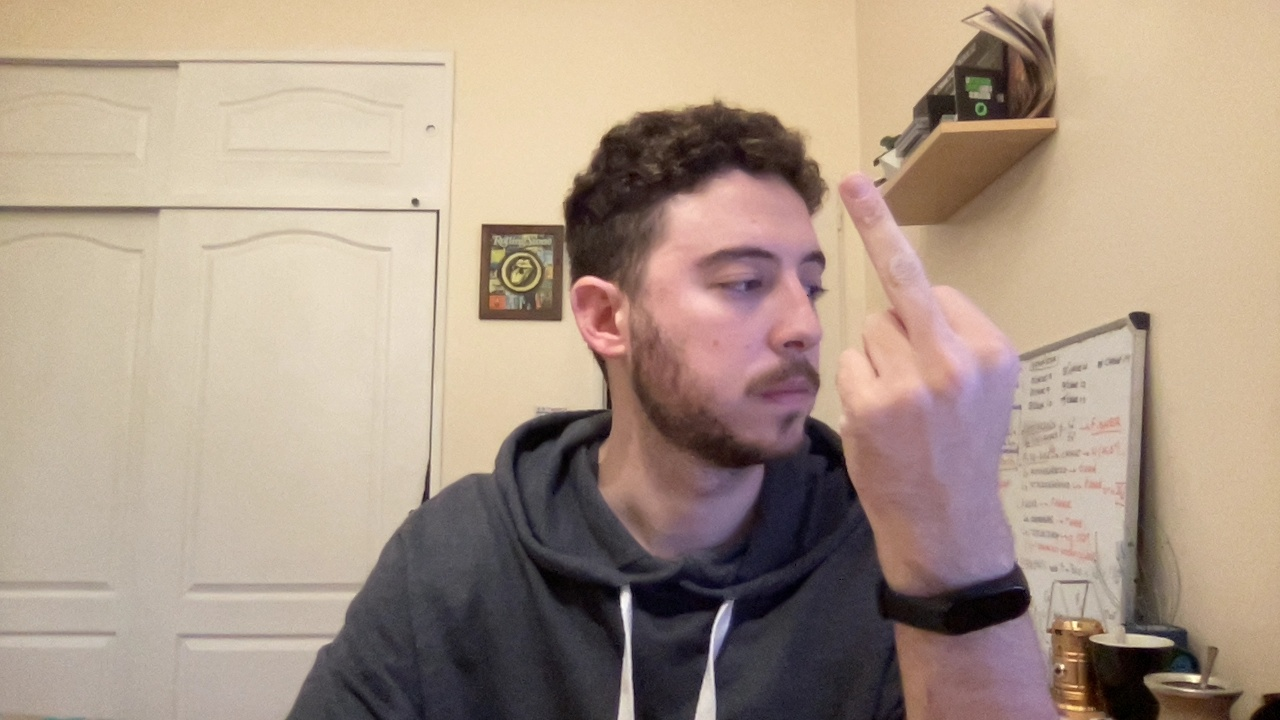mayor: (812, 163, 1067, 533)
